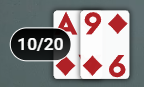9: (80, 11, 105, 38)
a: (54, 11, 78, 39)
